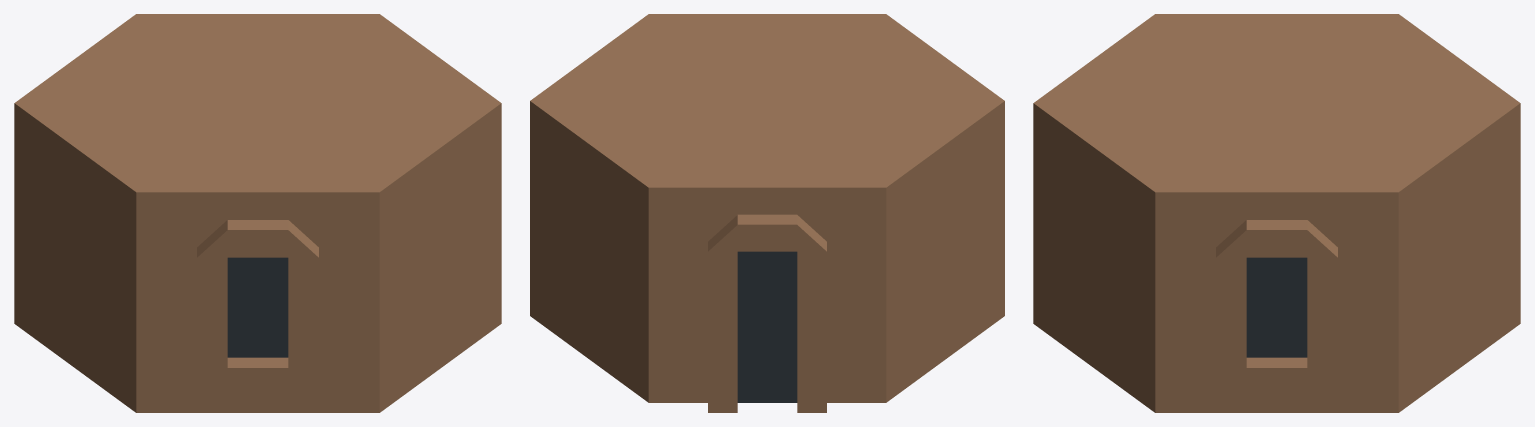
The model's file is house.fbx.
3 views of the same model, side by side, from view 1: azimuth 30°, elevation 25°; view 2: azimuth 150°, elevation 25°; view 3: azimuth 270°, elevation 25° (orthographic). The views are drawn at different scales.
Visible parts, largest first — view 1: Cylinder; view 2: Cylinder; view 3: Cylinder.
Part boxes in pixels (box(x1,y1,x2,y2)): Cylinder: box(14, 14, 501, 412); Cylinder: box(530, 14, 1004, 412); Cylinder: box(1033, 14, 1520, 412).
Size of the model in its own units: 1.83 by 1 by 2.
